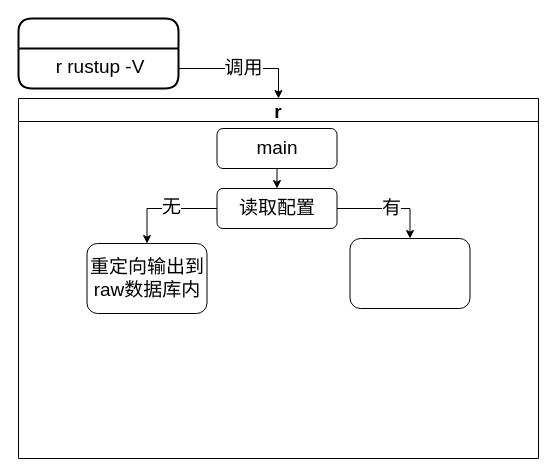
This 556x476 diagram has some shape labels left out. Here are the shapes that lost their labels. From the top down, the box of each, then its label:
(17, 17, 179, 89): 命令提示符
(349, 238, 470, 308): 重定向输出到校验数据库内
